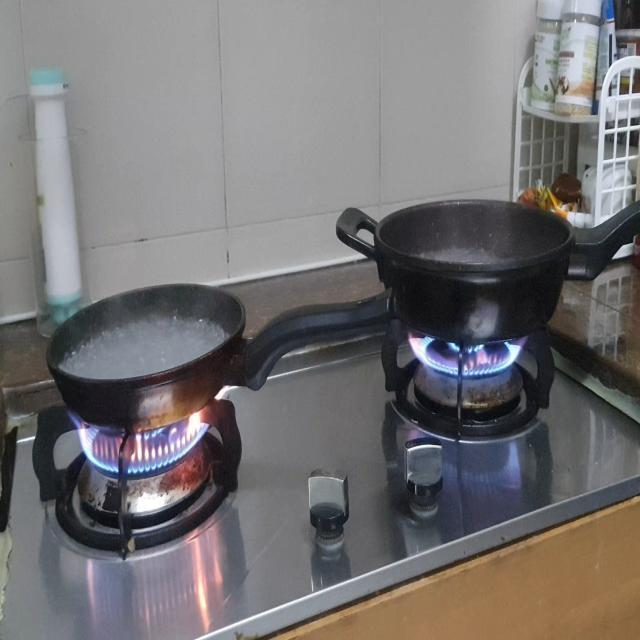Flame: (124, 420, 222, 479), (411, 338, 530, 373), (78, 426, 123, 478)
Pan: (326, 195, 581, 347), (41, 278, 258, 431)
